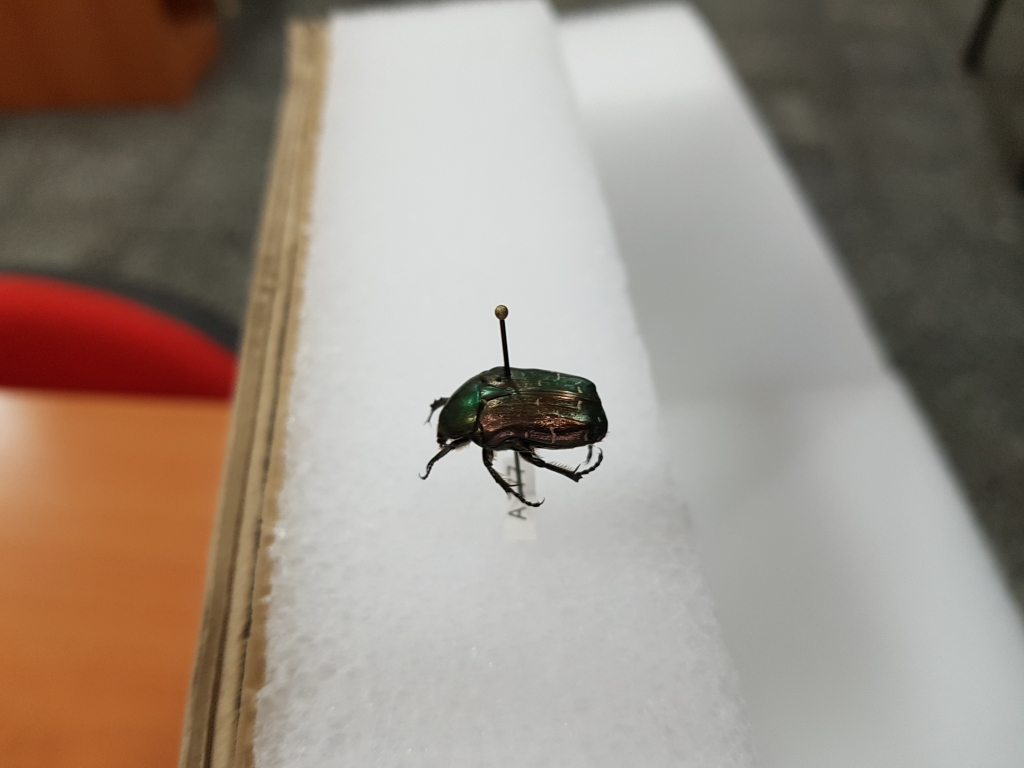Cetonia_aurata: (416, 365, 615, 510)
